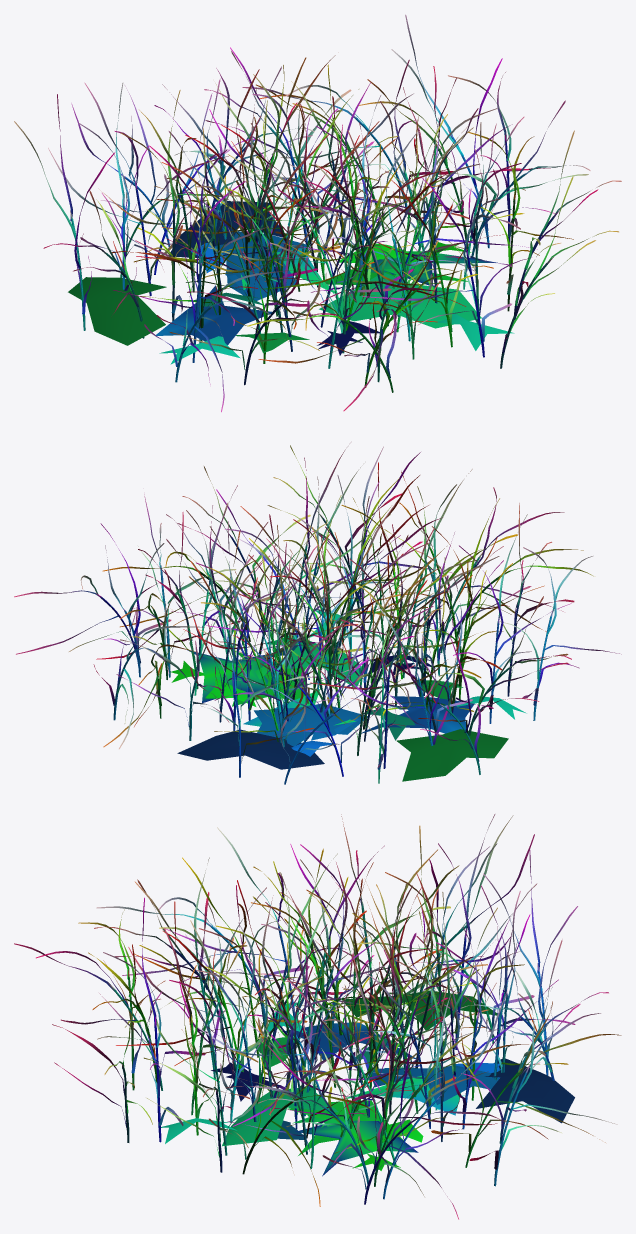
File: Kikuyu_Grass_wiljearqx_High_wiljearqx_VarF_LOD0.fbx
The picture shows the model from 3 angles, top to bottom: view 1: azimuth 30°, elevation 25°; view 2: azimuth 150°, elevation 25°; view 3: azimuth 270°, elevation 25°; orthographic projection. The views are drawn at different scales.
Visible parts, largest first — view 1: _op2y_VarF_LOD0; view 2: _op2y_VarF_LOD0; view 3: _op2y_VarF_LOD0.
Boxes of the visible parts, box(x1,y1,x2,y2) form: _op2y_VarF_LOD0: box(14, 14, 621, 412); _op2y_VarF_LOD0: box(14, 445, 621, 784); _op2y_VarF_LOD0: box(14, 814, 621, 1219).
Bounding box in the file's own units: 90.78 × 34.13 × 84.65.
